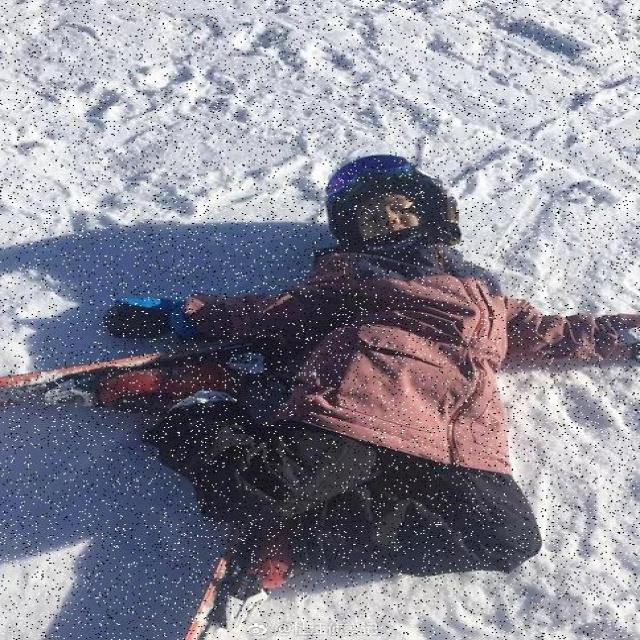fall: (140, 158, 576, 594)
